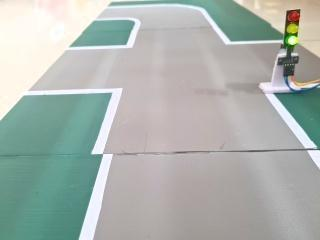green: (284, 6, 305, 62)
